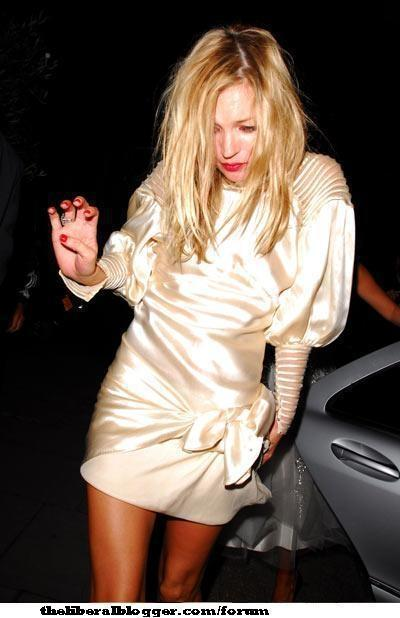Drunk: (195, 77, 270, 183)
